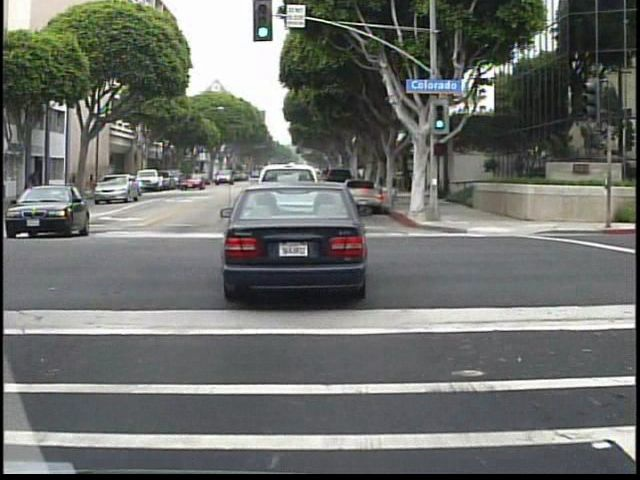person: (23, 169, 43, 208)
